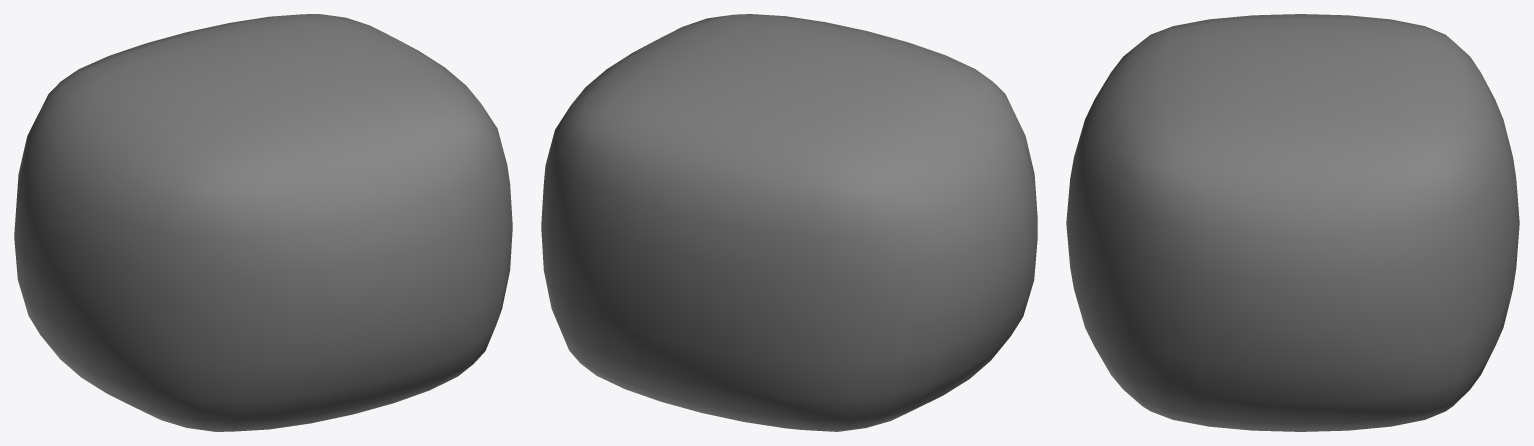
File: stone1.fbx
3 views of the same model, side by side, from view 1: azimuth 30°, elevation 25°; view 2: azimuth 150°, elevation 25°; view 3: azimuth 270°, elevation 25° (orthographic).
Parts seen in each view (by area): view 1: Cube.021; view 2: Cube.021; view 3: Cube.021.
Part boxes in pixels (x1,y1,x2,y2): Cube.021: [14, 14, 512, 431]; Cube.021: [541, 14, 1037, 431]; Cube.021: [1066, 14, 1519, 431].
Size of the model in its own units: 0.5992 by 0.5363 by 0.4129.
